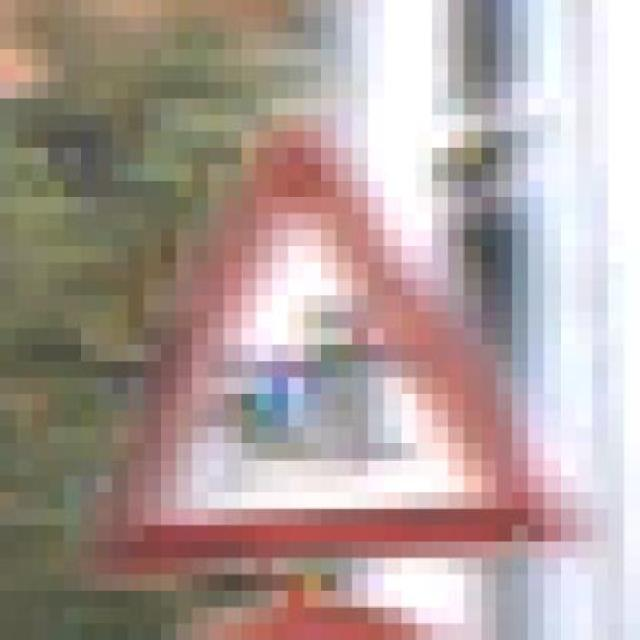Beware of children: (80, 98, 592, 591)
